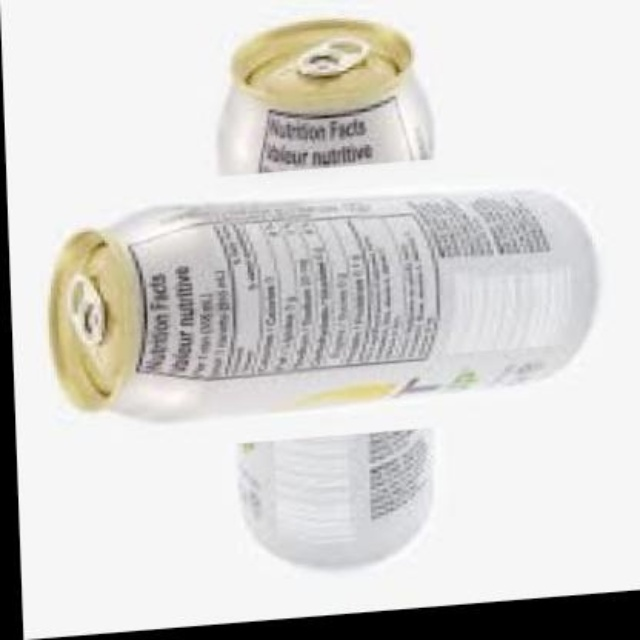trash: (49, 189, 594, 415), (218, 18, 432, 172), (238, 429, 431, 563)
